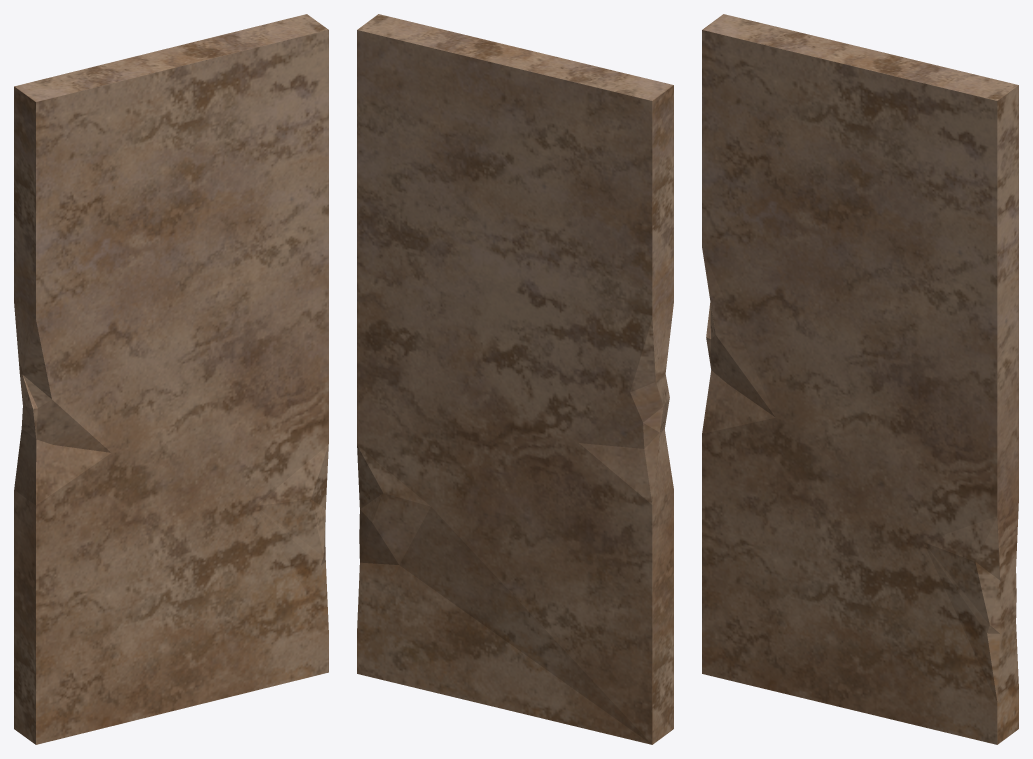
The model's file is DoorsDestroyed3.fbx.
The picture shows the model from 3 angles, left to right: view 1: azimuth 30°, elevation 25°; view 2: azimuth 150°, elevation 25°; view 3: azimuth 330°, elevation 25°; orthographic projection.
Parts seen in each view (by area): view 1: Porta 1.002; view 2: Porta 1.002; view 3: Porta 1.002.
Part boxes in pixels (x1=…): Porta 1.002: x1=14, y1=14, x2=328, y2=744; Porta 1.002: x1=357, y1=14, x2=673, y2=744; Porta 1.002: x1=702, y1=14, x2=1018, y2=744.
Bounding box in the file's own units: 301 × 624 × 45.89.
1 material, 1 textured.
